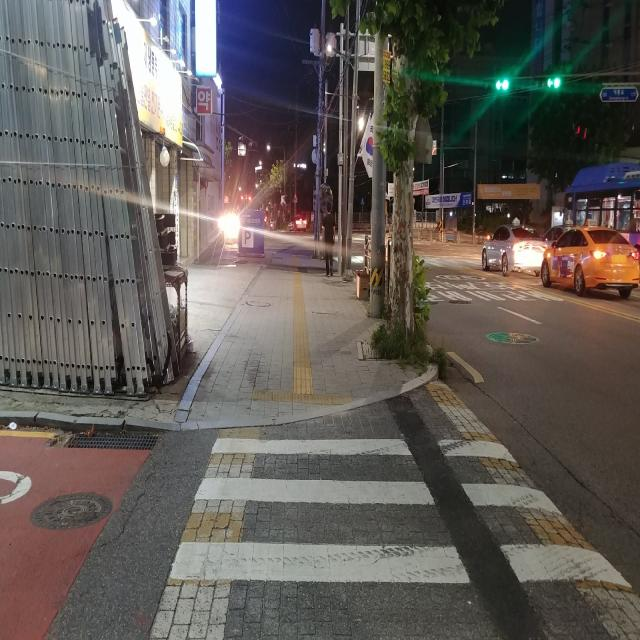횡단보도: (232, 437, 568, 582)
